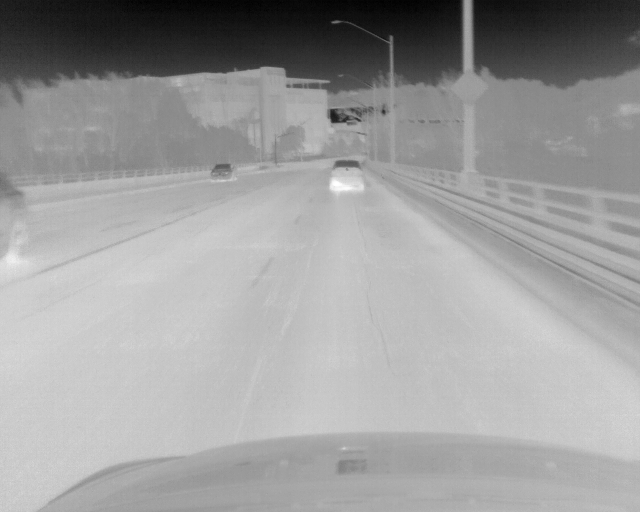car: (1, 170, 32, 264), (327, 160, 366, 193), (209, 162, 236, 183)
